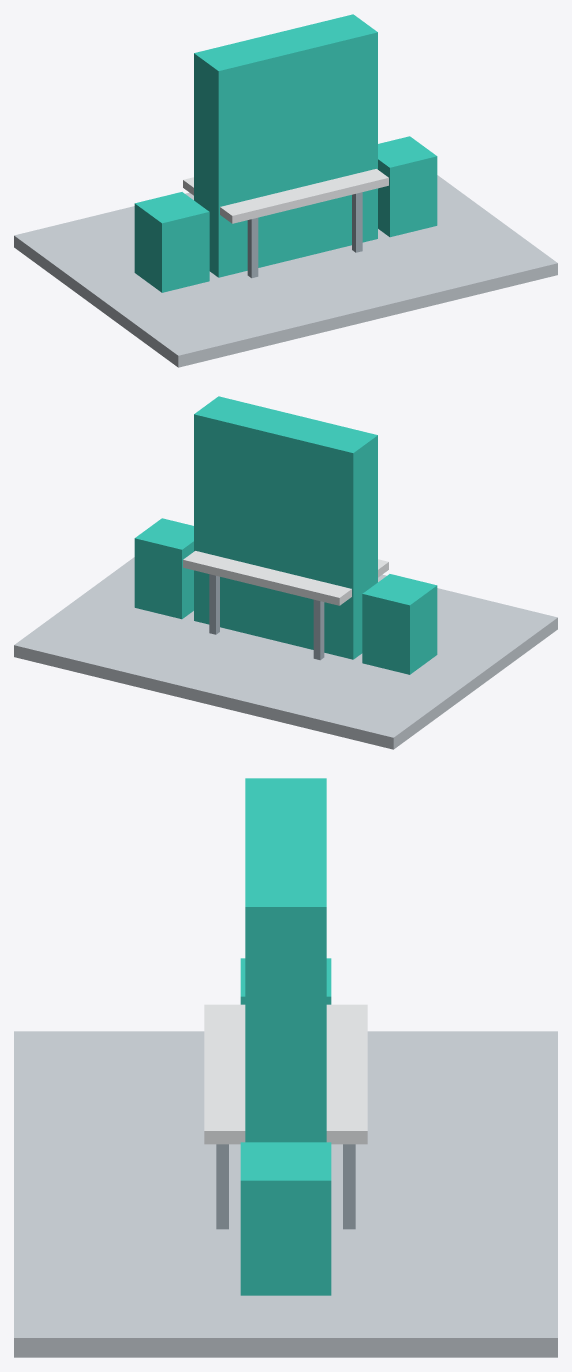
The picture shows the model from 3 angles, top to bottom: view 1: azimuth 30°, elevation 25°; view 2: azimuth 150°, elevation 25°; view 3: azimuth 270°, elevation 25°; orthographic projection. The views are drawn at different scales.
Parts seen in each view (by area): view 1: Exhibition Booth Concept; view 2: Exhibition Booth Concept; view 3: Exhibition Booth Concept.
Boxes of the visible parts, <box> form: Exhibition Booth Concept: <box>14,14,557,367</box>; Exhibition Booth Concept: <box>14,396,557,749</box>; Exhibition Booth Concept: <box>14,778,557,1357</box>.
Bounding box in the file's own units: 4 × 2.2 × 3.
